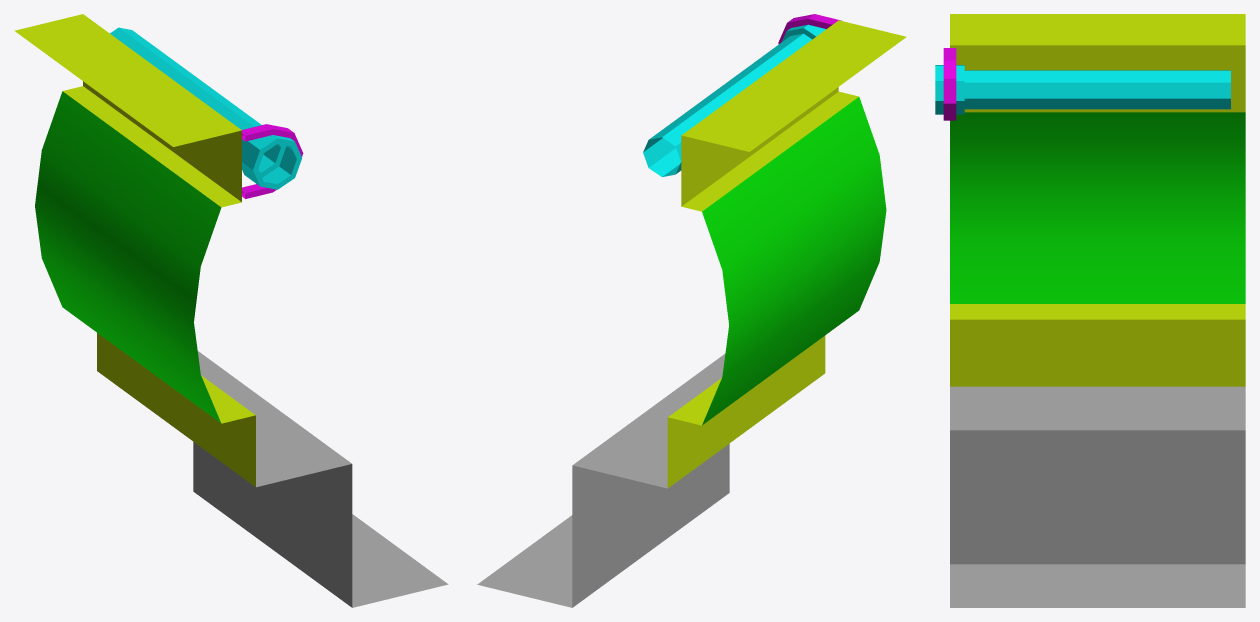
Rendered from Wall_a_flat.fbx.
The picture shows the model from 3 angles, left to right: view 1: azimuth 30°, elevation 25°; view 2: azimuth 150°, elevation 25°; view 3: azimuth 270°, elevation 25°; orthographic projection. The views are drawn at different scales.
Visible parts, largest first — view 1: Wall_flat:Wall_withPipe:polySurface4, Floorplane1, Wall_flat:Wall_withPipe:pCylinder1, Wall_flat:Wall_withPipe:polySurface1, Wall_flat:Wall_withPipe:polySurface3; view 2: Wall_flat:Wall_withPipe:polySurface4, Floorplane1, Wall_flat:Wall_withPipe:pCylinder1, Wall_flat:Wall_withPipe:polySurface3; view 3: Wall_flat:Wall_withPipe:polySurface4, Floorplane1, Wall_flat:Wall_withPipe:pCylinder1, Wall_flat:Wall_withPipe:polySurface3, Wall_flat:Wall_withPipe:polySurface1.
Part boxes in pixels (box(x1,y1,x2,y2)): Wall_flat:Wall_withPipe:polySurface4: box(14, 14, 255, 486); Floorplane1: box(193, 351, 448, 607); Wall_flat:Wall_withPipe:pCylinder1: box(110, 27, 280, 172); Wall_flat:Wall_withPipe:polySurface1: box(242, 135, 301, 189); Wall_flat:Wall_withPipe:polySurface3: box(242, 124, 303, 198); Wall_flat:Wall_withPipe:polySurface4: box(667, 20, 906, 488); Floorplane1: box(477, 354, 729, 607); Wall_flat:Wall_withPipe:pCylinder1: box(643, 33, 811, 176); Wall_flat:Wall_withPipe:polySurface3: box(778, 14, 841, 44); Wall_flat:Wall_withPipe:polySurface4: box(950, 14, 1245, 386); Floorplane1: box(950, 386, 1245, 607); Wall_flat:Wall_withPipe:pCylinder1: box(964, 70, 1230, 109); Wall_flat:Wall_withPipe:polySurface3: box(943, 48, 956, 120); Wall_flat:Wall_withPipe:polySurface1: box(935, 65, 964, 114).
Bounding box in the file's own units: 10 × 17.5 × 10.5.
